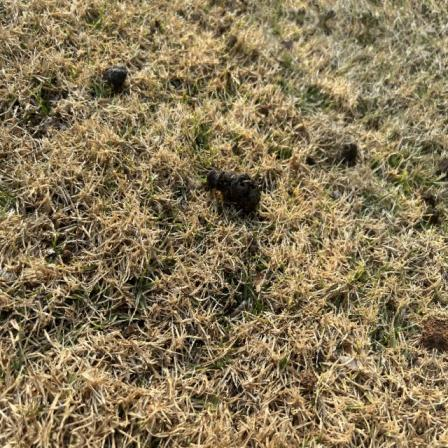dog-poop: (205, 162, 265, 212)
